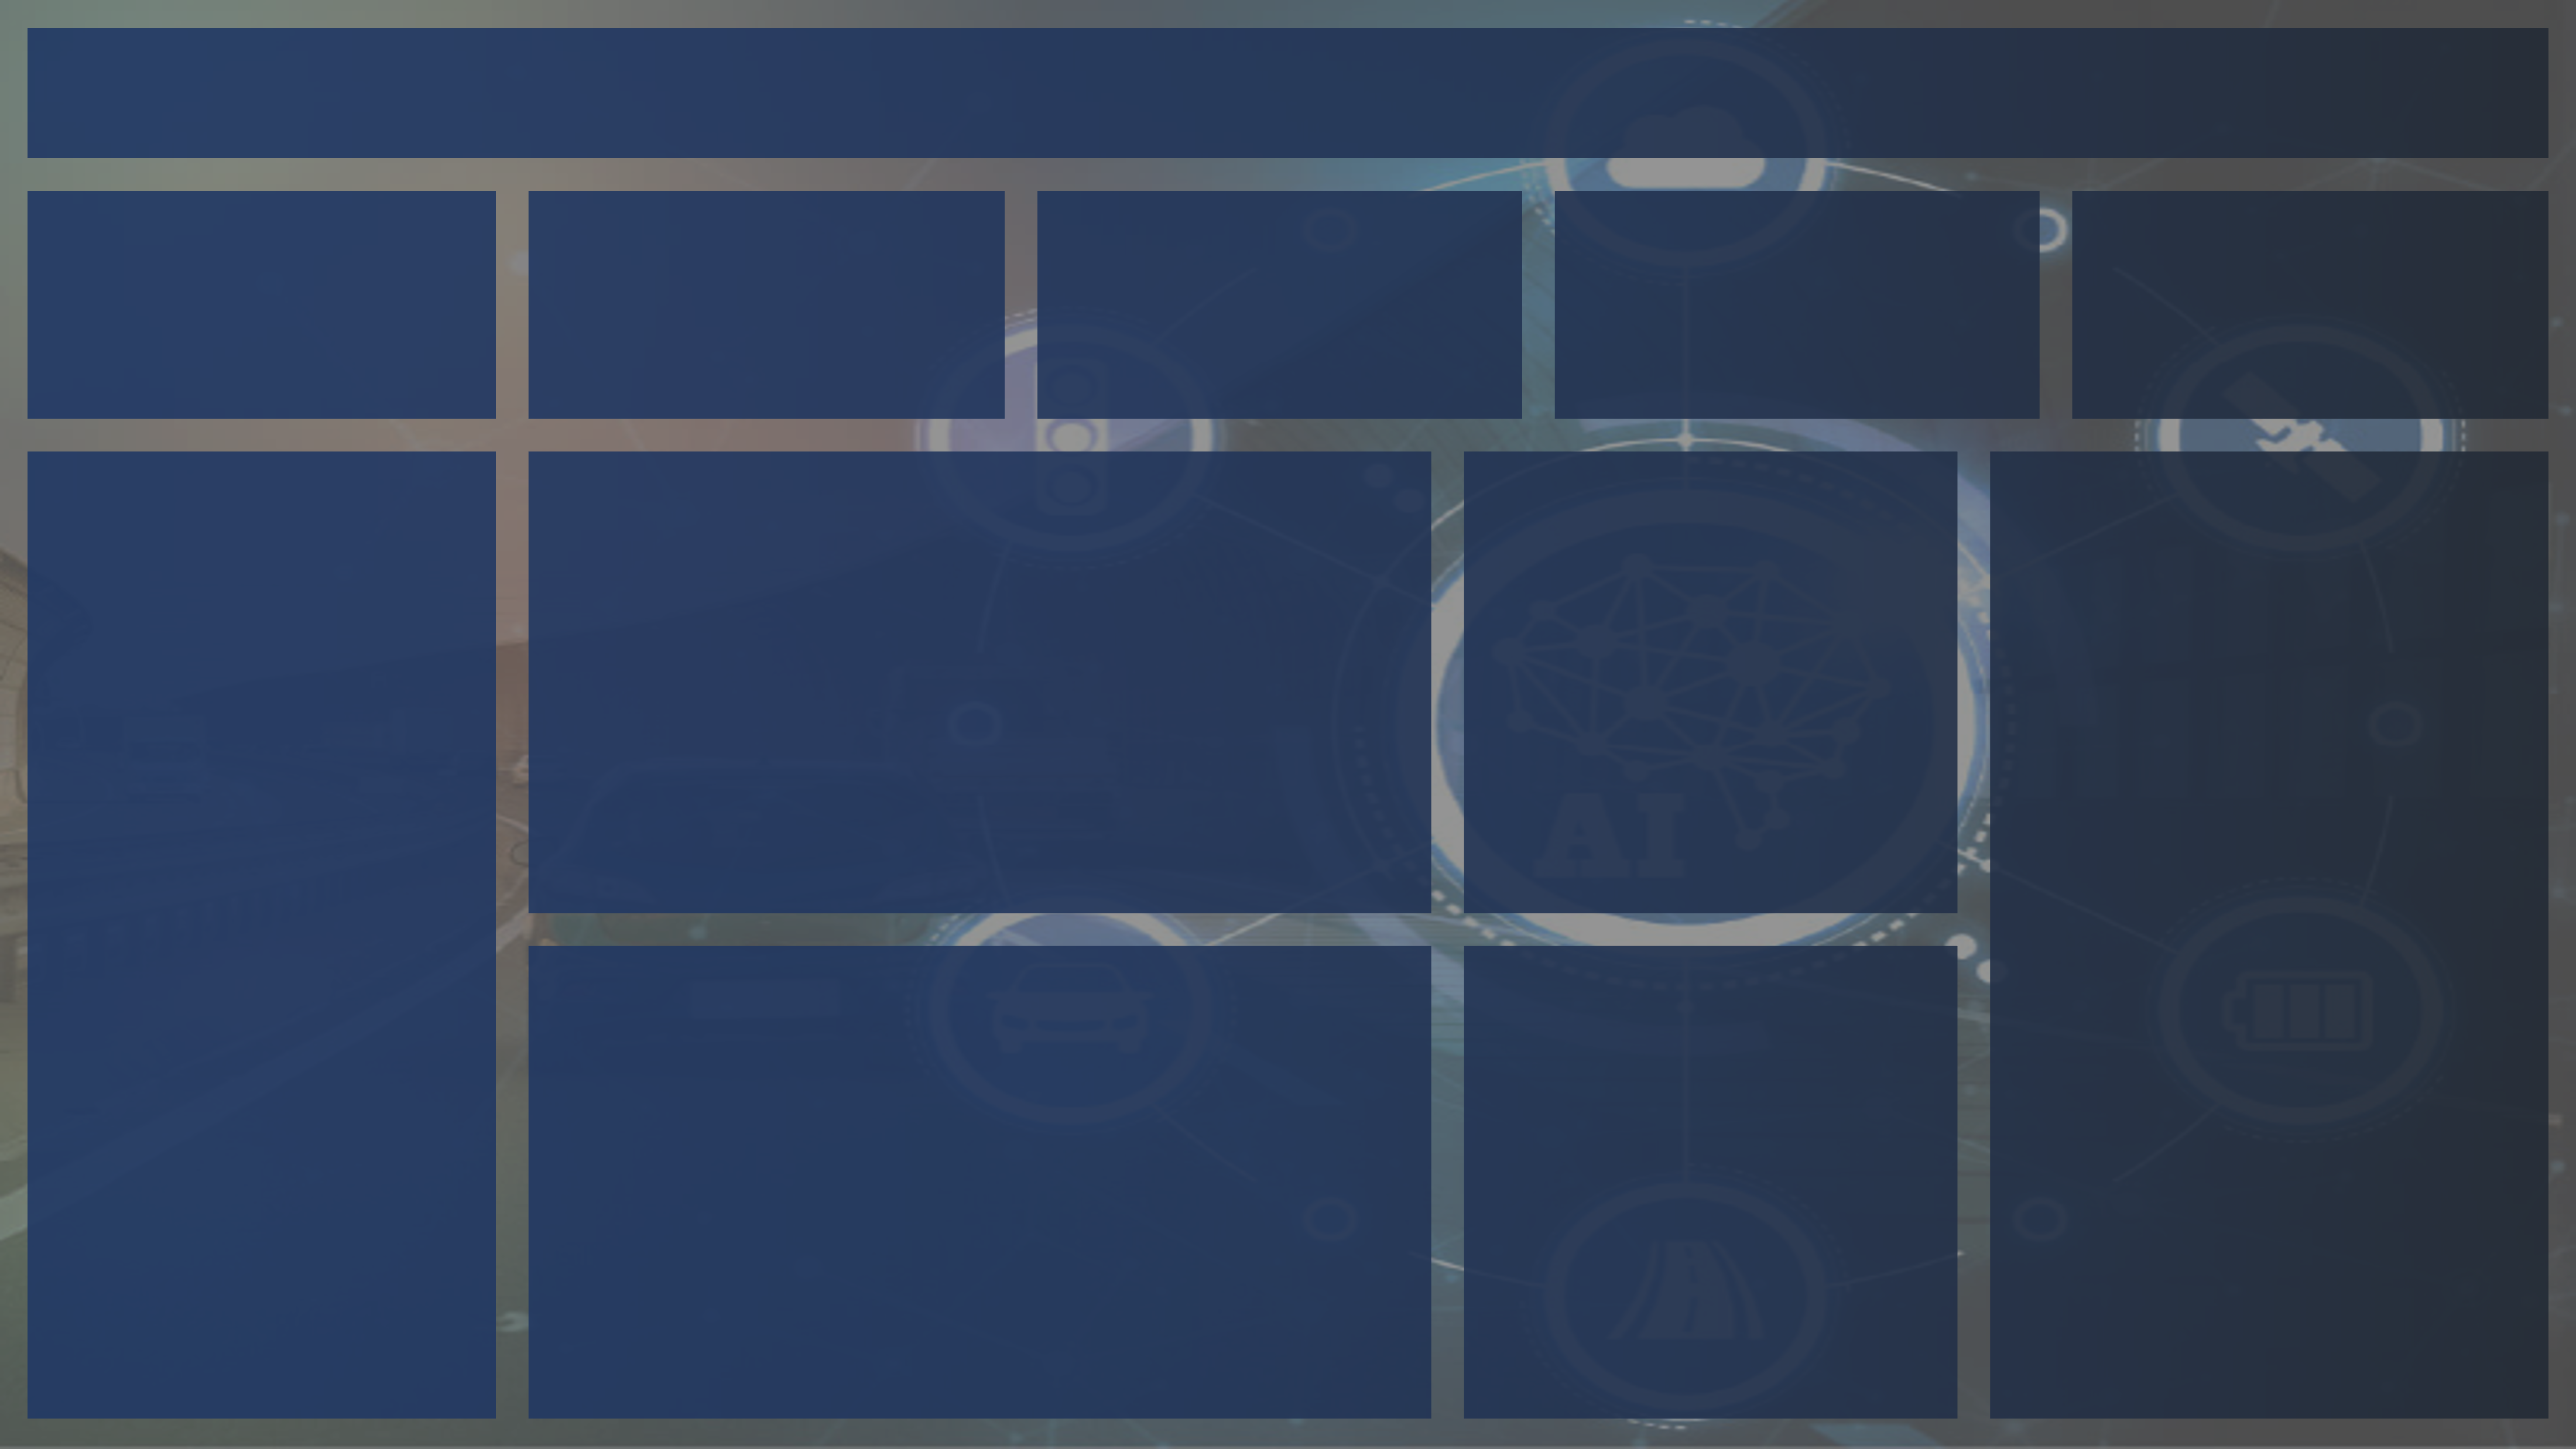

What the dashboard file says about the page in this screenshot:
{"tool":"powerbi","page":{"name":"Page 1","canvas":[1280,720],"ordinal":0},"visuals":[{"type":"cardVisual","title":"Total 2023 Death Casualties","fields":{"Data":["acidentes_viacao_detalhado.CY Casualties"]},"box":[262.8,91.8,235.7,83.7],"z":0},{"type":"cardVisual","title":"Total 2023 Casualties","fields":{"Data":["acidentes_viacao_detalhado.YOY Casualties"]},"box":[336.7,167.3,88.8,37.8],"z":1000},{"type":"cardVisual","title":"Total 2023 Accidents","fields":{"Data":["acidentes_viacao_detalhado.CY Accidents"]},"box":[14.3,91.8,232.7,83.7],"z":2000},{"type":"cardVisual","title":"Total 2023 Casualties","fields":{"Data":["acidentes_viacao_detalhado.YOY Accidents"]},"box":[86.7,166.3,88.8,37.8],"z":3000},{"type":"cardVisual","title":"Total 2023 Injured Casualties","fields":{"Data":["acidentes_viacao_detalhado.CY Injured Casualties"]},"box":[516.3,90.8,238.8,83.7],"z":4000},{"type":"cardVisual","title":"Total 2023 Casualties","fields":{"Data":["acidentes_viacao_detalhado.YOY Injured Casualties"]},"box":[590.1,166.6,88.8,37.8],"z":5000},{"type":"slicer","fields":{"Values":["acidentes_viacao_detalhado.Região"]},"box":[771.4,91.8,244.9,116.3],"z":6000},{"type":"slicer","fields":{"Values":["acidentes_viacao_detalhado.Ano"]},"box":[1027.6,91.8,238.8,113.3],"z":7000},{"type":"textbox","box":[131.6,11.2,1015.3,65.3],"z":7001},{"type":"areaChart","title":"Accidents Growth by Years","fields":{"Category":["Calender.Date.Variation.Date Hierarchy.Year"],"Y":["Sum(acidentes_viacao_detalhado.Restantes vias)","Sum(acidentes_viacao_detalhado.Estradas nacionais)","Sum(acidentes_viacao_detalhado.Autoestradas)"]},"box":[263.3,223.5,449,228.6],"z":7002},{"type":"lineChart","title":"Death Casualties by Year","fields":{"Category":["Calender.Date.Variation.Date Hierarchy.Year"],"Y":["acidentes_viacao_detalhado.CY Death Casualties"]},"box":[263.3,467.3,449,236.7],"z":7003},{"type":"donutChart","title":"Total Accidents by Region","fields":{"Category":["acidentes_viacao_detalhado.Região"],"Y":["acidentes_viacao_detalhado.Total Accidents"]},"box":[727.6,223.5,244.9,229.6],"z":7004},{"type":"donutChart","title":"Total Death Casualties by Region","fields":{"Category":["acidentes_viacao_detalhado.Região"],"Y":["acidentes_viacao_detalhado.Total Death Casualties"]},"box":[727.6,467.3,244.9,237.8],"z":7005},{"type":"clusteredBarChart","title":"Death Casualties By Region & Roads","fields":{"Category":["acidentes_viacao_detalhado.Região"],"Y":["Sum(acidentes_viacao_detalhado.Acidentes C/ vitmas - Rest. Vias)","Sum(acidentes_viacao_detalhado.Acidentes C/ vitimas -AutoEstradas)","Sum(acidentes_viacao_detalhado.Acidentes C/ vitimas - Nacionais)"]},"box":[988.8,223.5,277.6,480.6],"z":7006},{"type":"clusteredBarChart","title":"Death Casualties By Year","fields":{"Category":["Calender.Date.Variation.Date Hierarchy.Year"],"Y":["acidentes_viacao_detalhado.Total Death Casualties"]},"box":[14.3,223.5,232.7,482.7],"z":7007}]}

Visuals, with their boxes in screenshot pixels (x1, y1, x2, y2), scaled from the page's 1280x720 canvas onto the 2576x1449 screenshot:
"Total 2023 Death Casualties" cardVisual: [left=529, top=185, right=1003, bottom=353]
"Total 2023 Casualties" cardVisual: [left=677, top=337, right=857, bottom=413]
"Total 2023 Accidents" cardVisual: [left=29, top=185, right=497, bottom=353]
"Total 2023 Casualties" cardVisual: [left=174, top=335, right=353, bottom=411]
"Total 2023 Injured Casualties" cardVisual: [left=1039, top=183, right=1520, bottom=351]
"Total 2023 Casualties" cardVisual: [left=1187, top=335, right=1366, bottom=412]
slicer - acidentes_viacao_detalhado.Região: [left=1553, top=185, right=2046, bottom=419]
slicer - acidentes_viacao_detalhado.Ano: [left=2068, top=185, right=2548, bottom=413]
textbox: [left=265, top=22, right=2308, bottom=154]
"Accidents Growth by Years" areaChart: [left=530, top=450, right=1434, bottom=910]
"Death Casualties by Year" lineChart: [left=530, top=940, right=1434, bottom=1417]
"Total Accidents by Region" donutChart: [left=1464, top=450, right=1957, bottom=912]
"Total Death Casualties by Region" donutChart: [left=1464, top=940, right=1957, bottom=1419]
"Death Casualties By Region & Roads" clusteredBarChart: [left=1990, top=450, right=2548, bottom=1417]
"Death Casualties By Year" clusteredBarChart: [left=29, top=450, right=497, bottom=1421]
